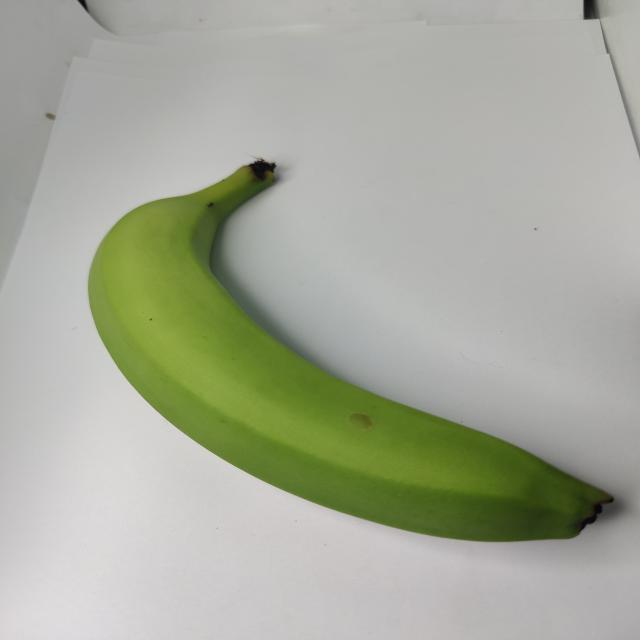raw: (77, 128, 627, 558)
